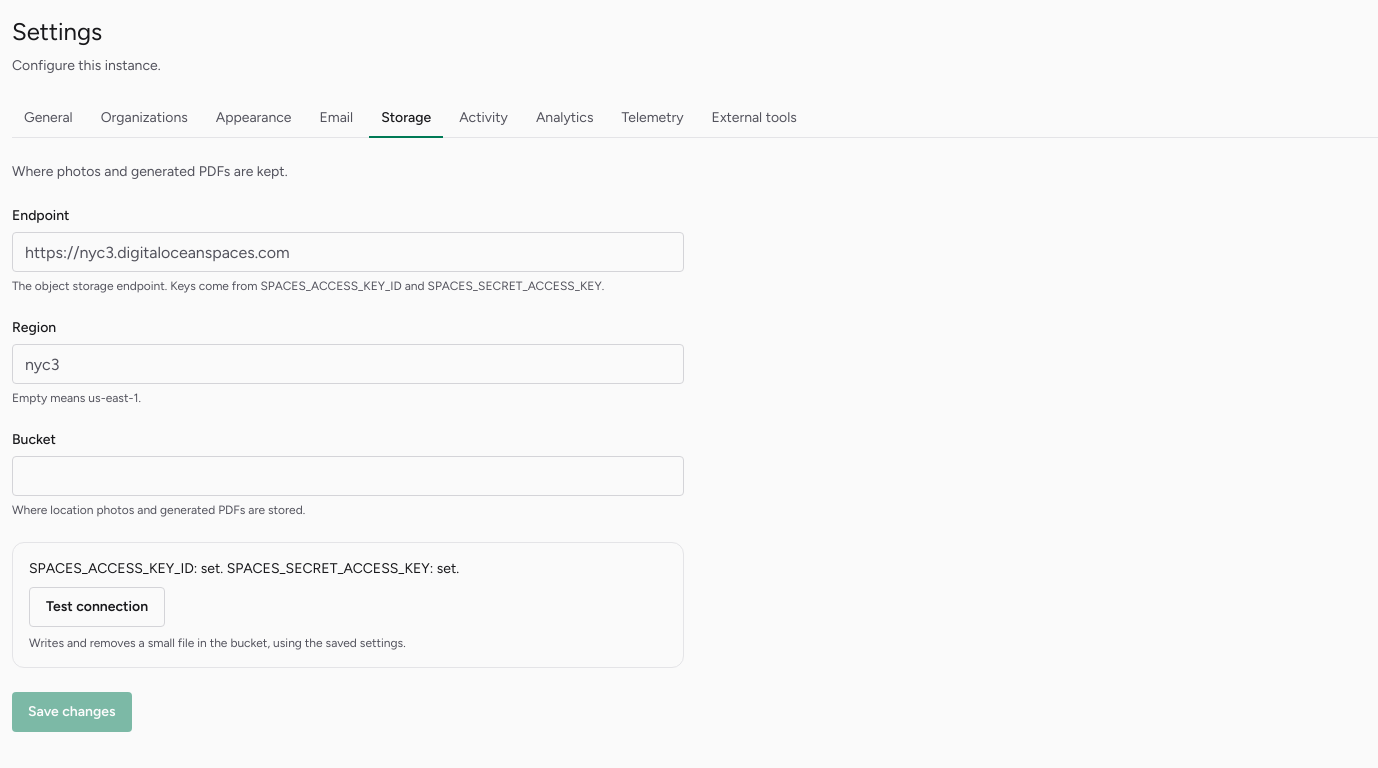
InfraSettingsPage › shows a failed storage test as an alert
Click the button "Test connection": [97, 607] box [29,587,165,627]
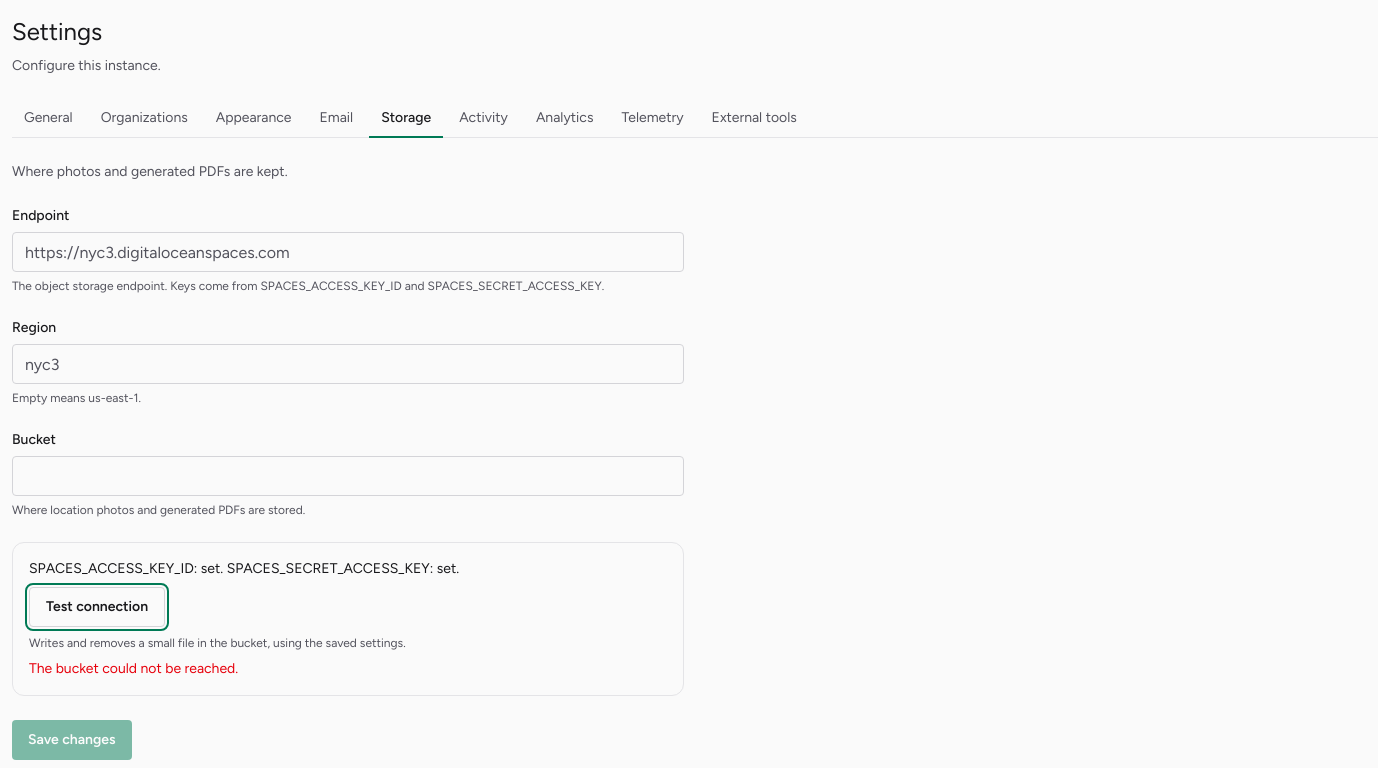
Expected: the message reads "The bucket could not be reached.", [29,660,238,677]
